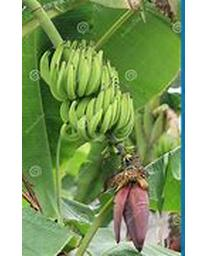banana: (38, 36, 133, 145)
